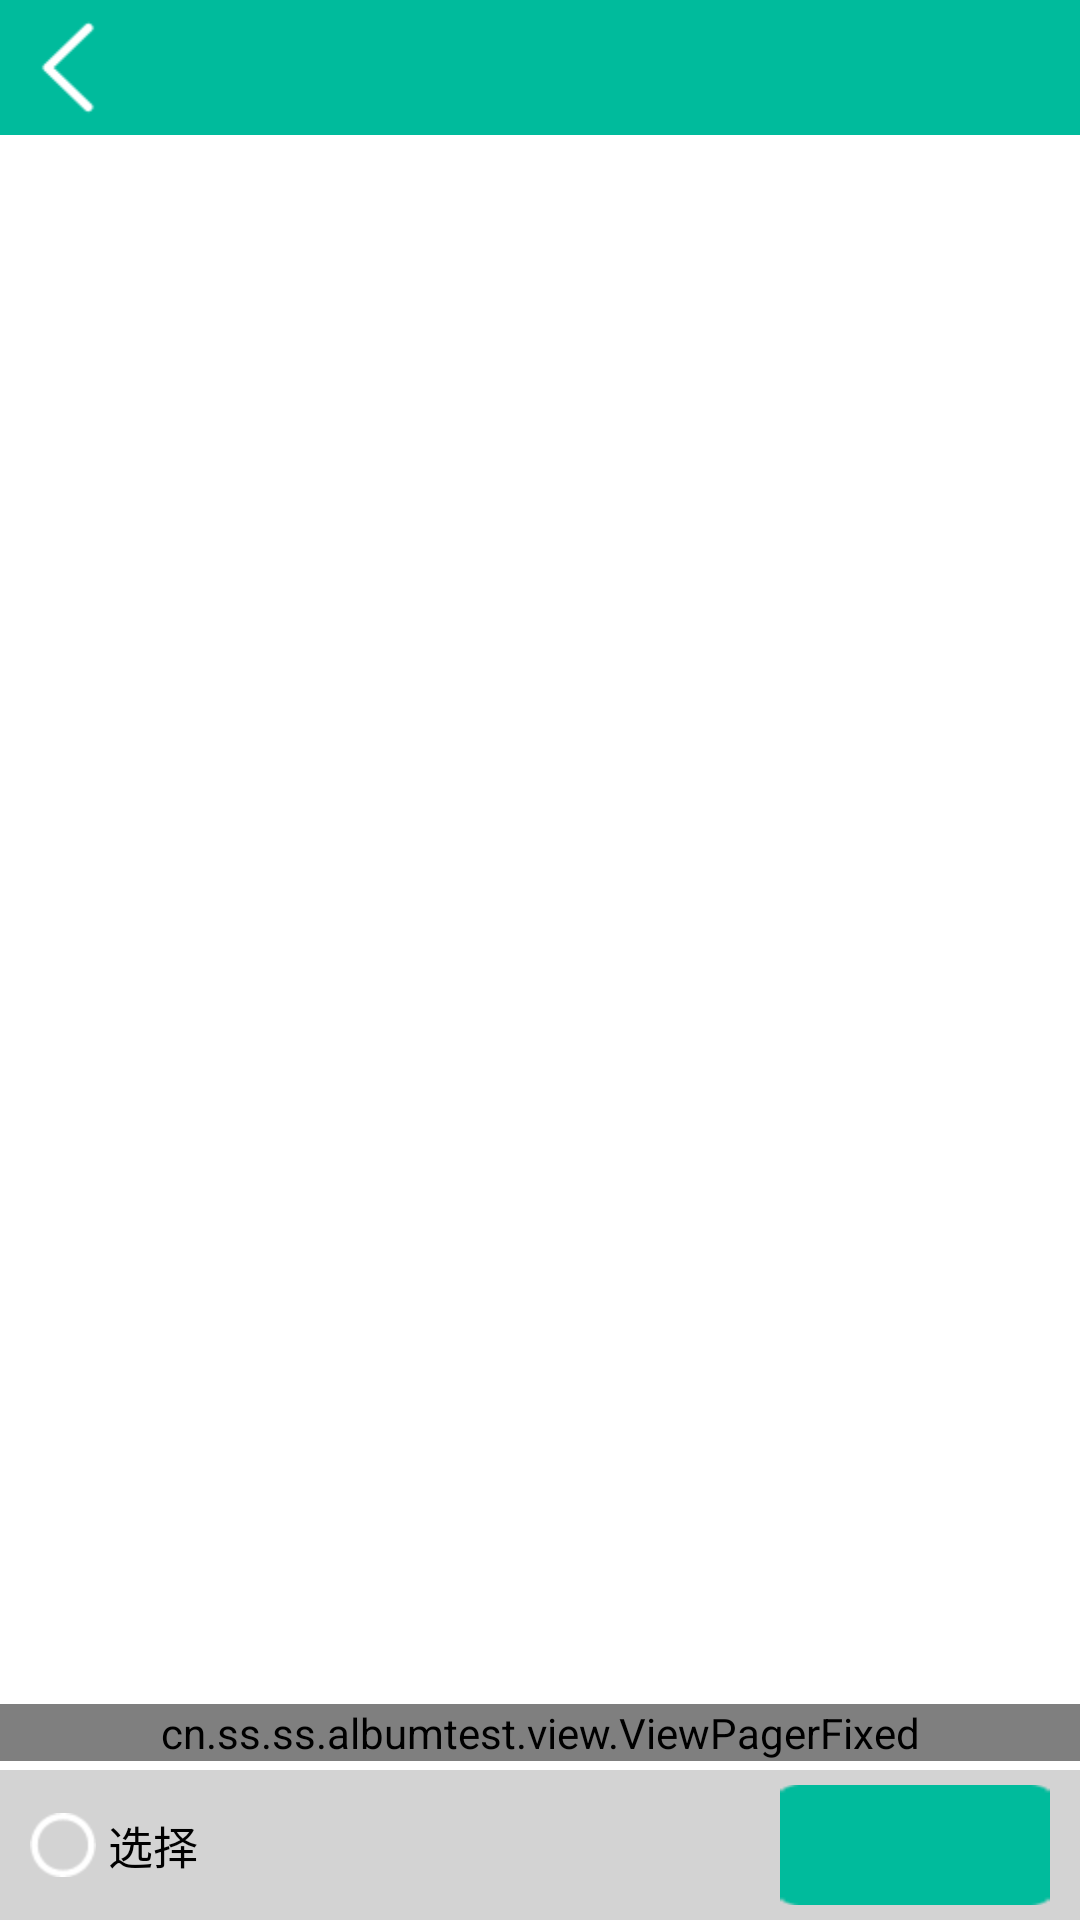

Locate icon controls on the screen. Image size 1080×1920, boxes as (x1, y1, x2, y2).
back: (42, 22, 94, 113)
